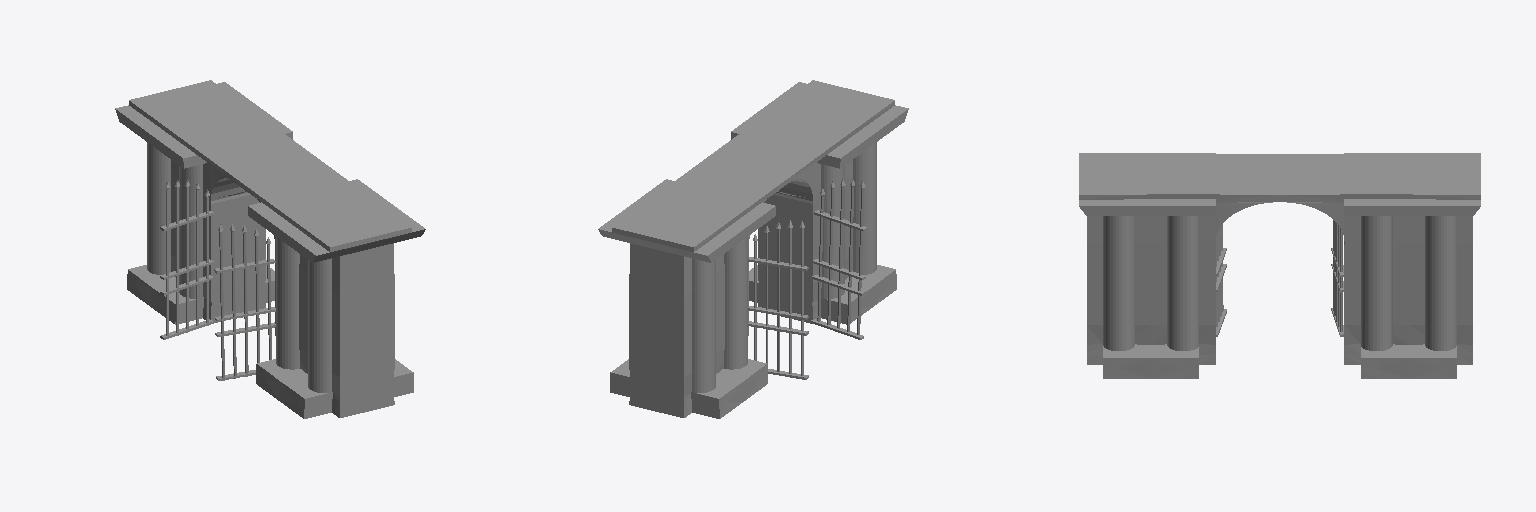
The model's file is cemetery_object_8_001.obj.
3 views of the same model, side by side, from view 1: azimuth 30°, elevation 25°; view 2: azimuth 150°, elevation 25°; view 3: azimuth 270°, elevation 25° (orthographic).
Parts seen in each view (by area): view 1: gate_opened01_Mesh.004; view 2: gate_opened01_Mesh.004; view 3: gate_opened01_Mesh.004.
Boxes of the visible parts, x1=… form: gate_opened01_Mesh.004: x1=115, y1=80, x2=425, y2=418; gate_opened01_Mesh.004: x1=598, y1=80, x2=908, y2=418; gate_opened01_Mesh.004: x1=1079, y1=153, x2=1480, y2=378.
Bounding box in the file's own units: 2.48 × 3.03 × 6.23.